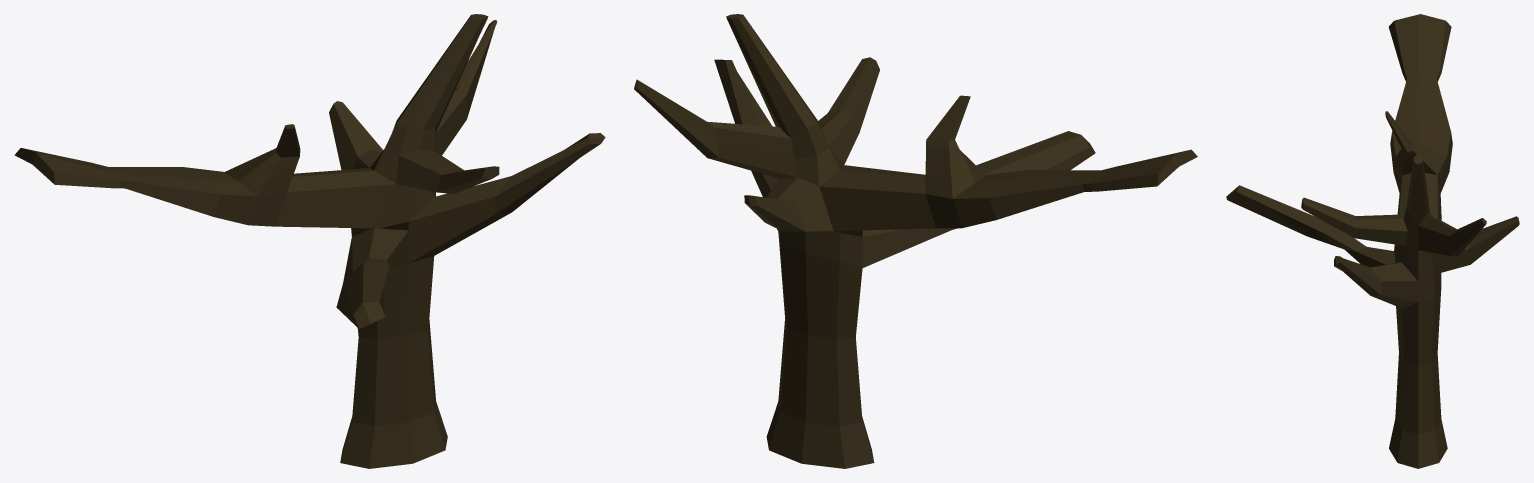
File: tree_branch_Platform.fbx
3 renders of one model, left to right at view 1: azimuth 30°, elevation 25°; view 2: azimuth 150°, elevation 25°; view 3: azimuth 270°, elevation 25°, orthographic. The views are drawn at different scales.
Visible parts, largest first — view 1: polySurface51; view 2: polySurface51; view 3: polySurface51.
Boxes of the visible parts, bbox=[...] form: polySurface51: bbox=[14, 14, 605, 468]; polySurface51: bbox=[634, 14, 1197, 468]; polySurface51: bbox=[1226, 14, 1519, 468].
Bounding box in the file's own units: 2309 × 1764 × 1453.
